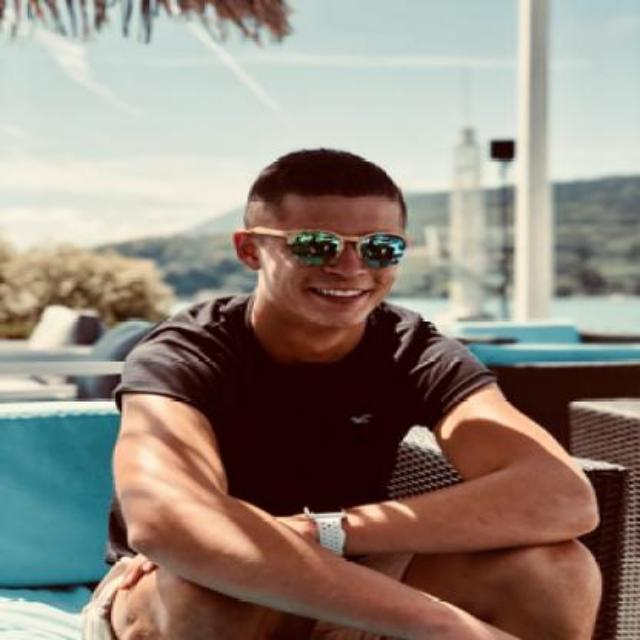glasses: (245, 226, 411, 266)
